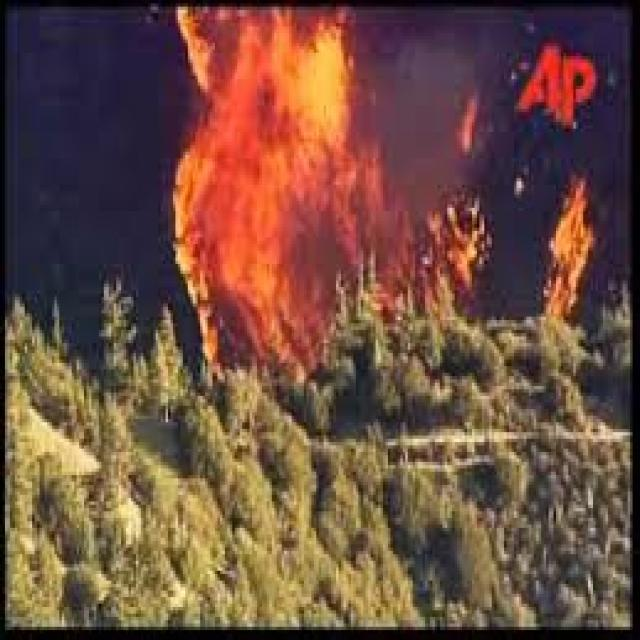Fire: (174, 9, 360, 354), (410, 182, 508, 305), (550, 180, 596, 316)
Smoke: (0, 4, 150, 299), (378, 26, 444, 134)
